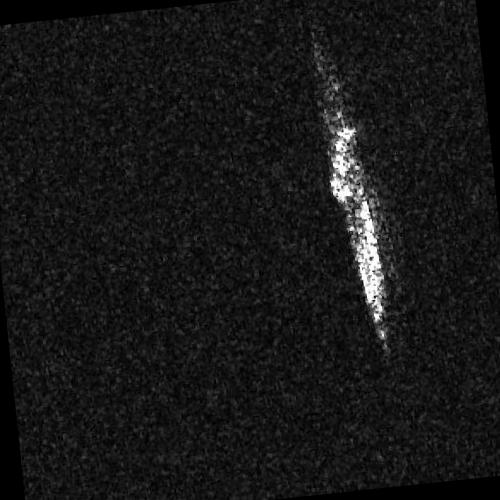ship: (313, 66, 388, 342)
